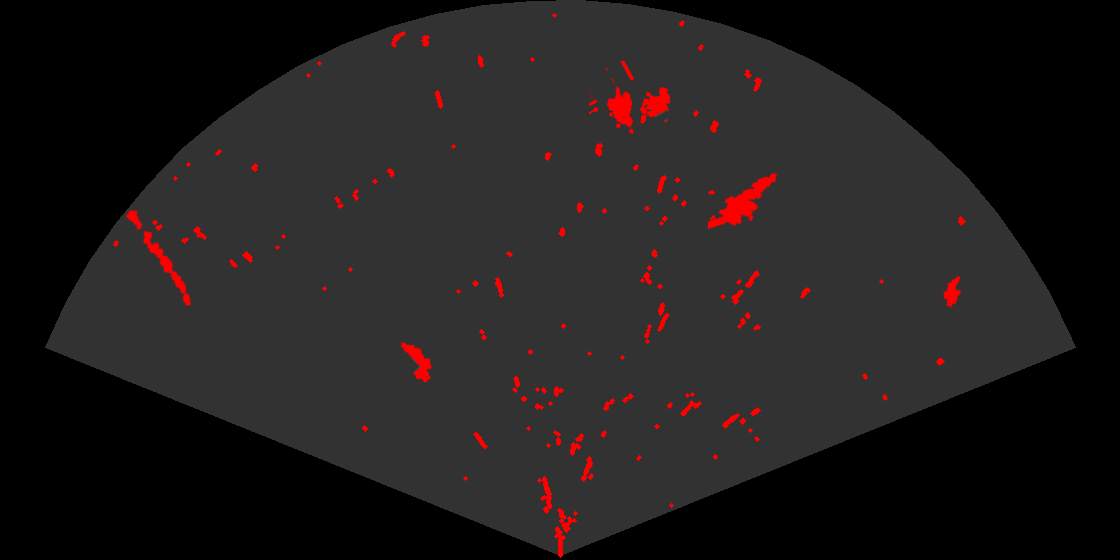AUV: (399, 341, 433, 384), (942, 274, 963, 309)
cage: (589, 61, 672, 136)
chain: (124, 208, 193, 308)
frogman: (708, 171, 779, 231)
